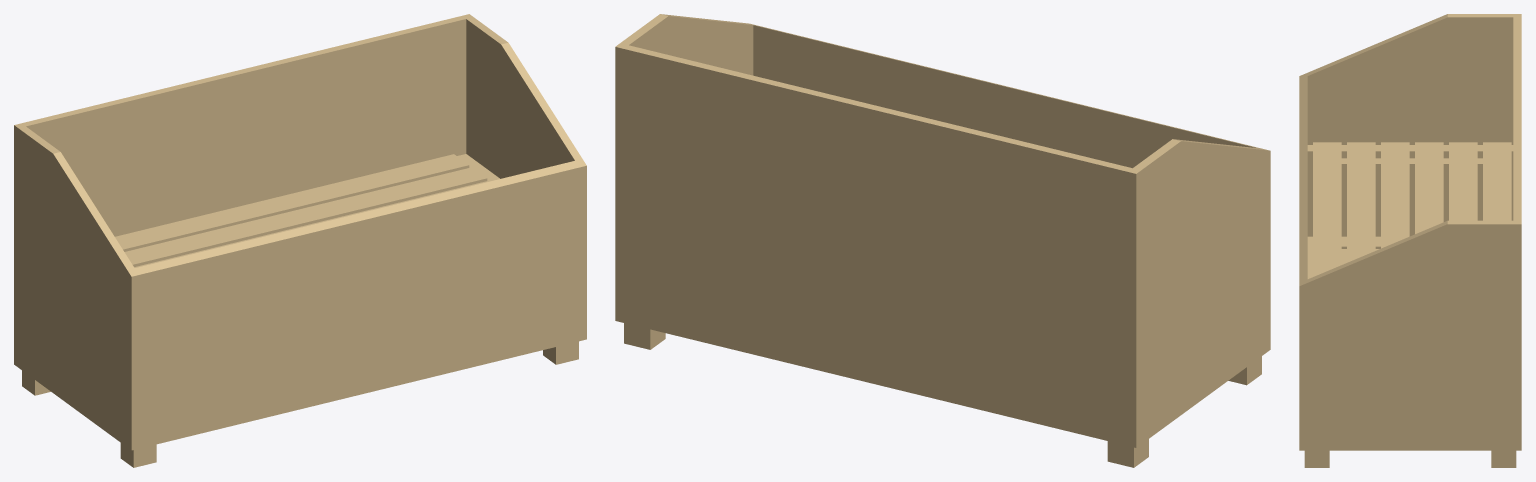
Rendered from 973_display_box.glb.
The picture shows the model from 3 angles, left to right: view 1: azimuth 30°, elevation 25°; view 2: azimuth 150°, elevation 25°; view 3: azimuth 270°, elevation 25°; orthographic projection. The views are drawn at different scales.
Parts seen in each view (by area): view 1: Body1, Body2; view 2: Body1; view 3: Body1, Body2.
Boxes of the visible parts, <box> form: Body1: <box>14,14,586,467</box>; Body2: <box>115,154,490,267</box>; Body1: <box>615,14,1270,467</box>; Body1: <box>1299,14,1521,467</box>; Body2: <box>1313,142,1511,276</box>.
Bounding box in the file's own units: 0.9121 × 0.498 × 0.4076.
